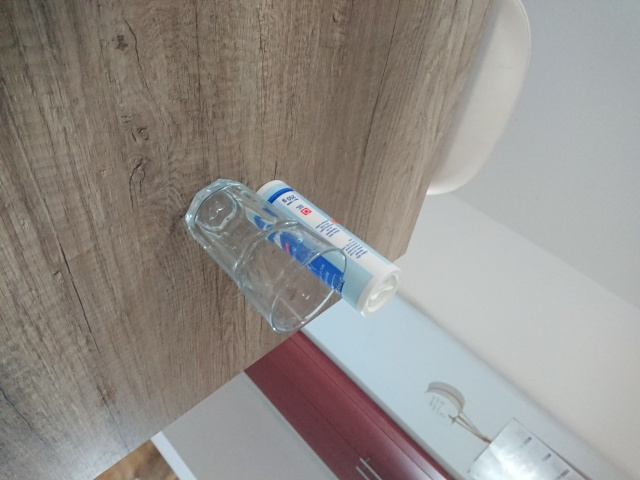Solana Pag Fine Sea Salt 250g: (242, 177, 405, 320)
